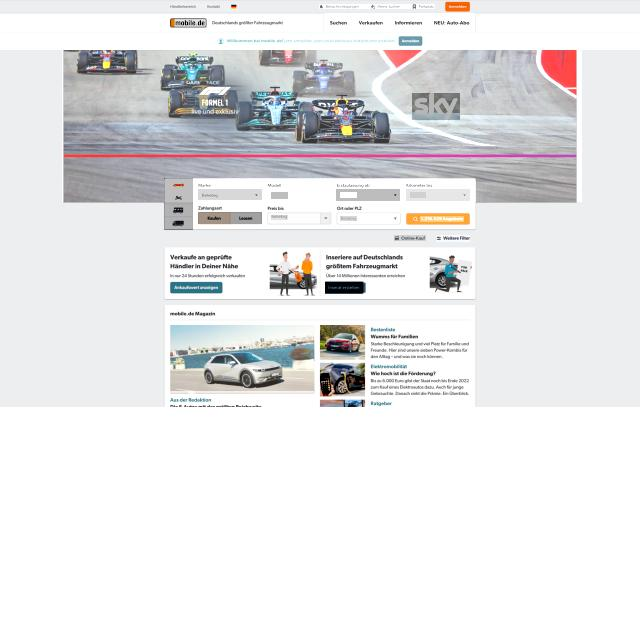CheckBox: (406, 212, 470, 225), (198, 212, 262, 225), (170, 282, 222, 294), (326, 281, 366, 294), (436, 235, 470, 242), (394, 235, 426, 241)
ProgressBar: (0, 33, 640, 51)
alert: (267, 212, 332, 225), (336, 189, 401, 201), (406, 189, 470, 201), (337, 212, 401, 224), (198, 189, 262, 200), (268, 190, 330, 201)
card: (62, 49, 582, 202)
carousel: (413, 216, 418, 222)
copy: (170, 326, 314, 394), (320, 326, 366, 360), (320, 363, 365, 396)
data feed: (420, 216, 464, 222), (448, 4, 468, 8)
date picker: (170, 18, 207, 28)
decoration: (324, 13, 475, 32), (319, 4, 435, 9), (169, 3, 239, 11)
footer: (271, 192, 288, 199), (340, 192, 357, 198), (271, 216, 288, 222), (410, 192, 426, 198), (340, 216, 357, 221)
icon: (164, 178, 193, 230)
image: (412, 94, 460, 122)
